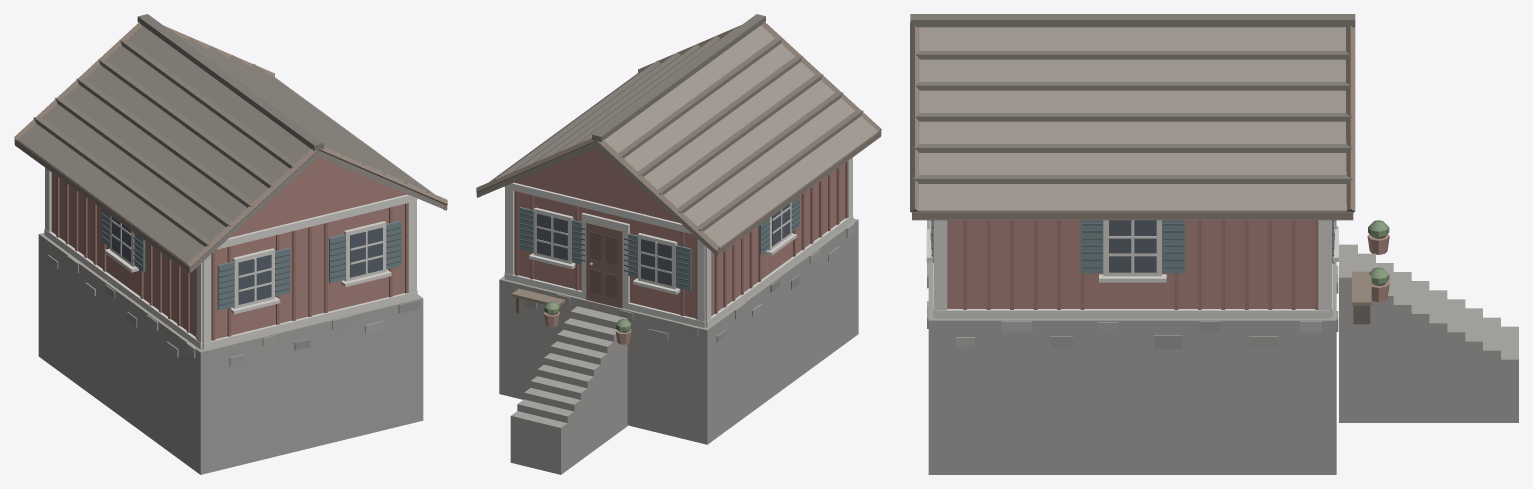
File: house_2_1.gltf
The picture shows the model from 3 angles, left to right: view 1: azimuth 30°, elevation 25°; view 2: azimuth 150°, elevation 25°; view 3: azimuth 270°, elevation 25°; orthographic projection. The views are drawn at different scales.
Parts seen in each view (by area): view 1: Body; view 2: Body; view 3: Body.
Part boxes in pixels (x1,y1,x2,y2): Body: [14, 14, 447, 474]; Body: [476, 14, 881, 474]; Body: [910, 14, 1518, 474].
Bounding box in the file's own units: 6.79 × 7.69 × 10.89.
